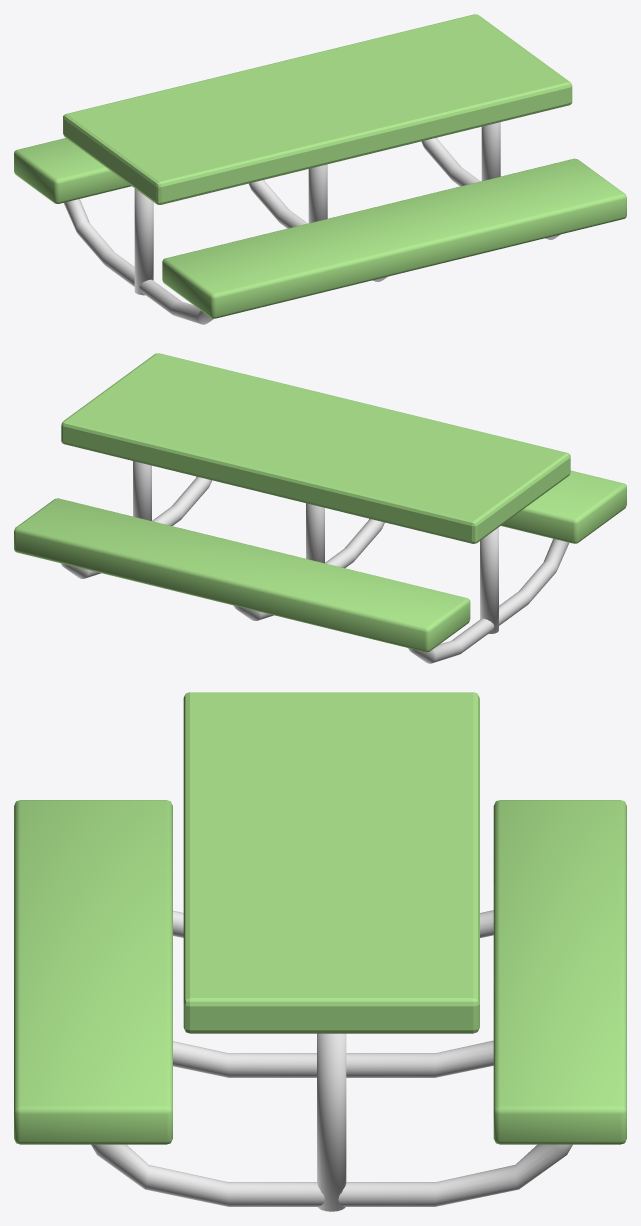
File: Picnic Table.glb
3 views of the same model, one above another, from view 1: azimuth 30°, elevation 25°; view 2: azimuth 150°, elevation 25°; view 3: azimuth 270°, elevation 25° (orthographic). The views are drawn at different scales.
Parts seen in each view (by area): view 1: Picnic Table; view 2: Picnic Table; view 3: Picnic Table.
Boxes of the visible parts, left/top/right/bottom form: Picnic Table: left=14, top=14, right=626, bottom=324; Picnic Table: left=14, top=353, right=626, bottom=663; Picnic Table: left=14, top=692, right=626, bottom=1211.
Bounding box in the file's own units: 1.83 × 0.6335 × 1.52.
